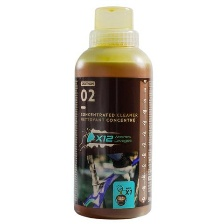cleaning_solution: (70, 3, 156, 221)
